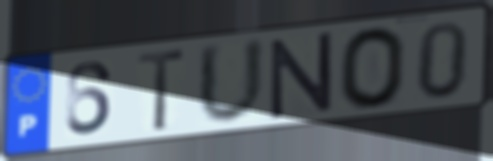0: (414, 20, 471, 101)
6: (65, 60, 115, 139)
N: (268, 29, 336, 123)
O: (336, 24, 408, 112)
T: (134, 47, 189, 135)
U: (195, 35, 268, 128)
